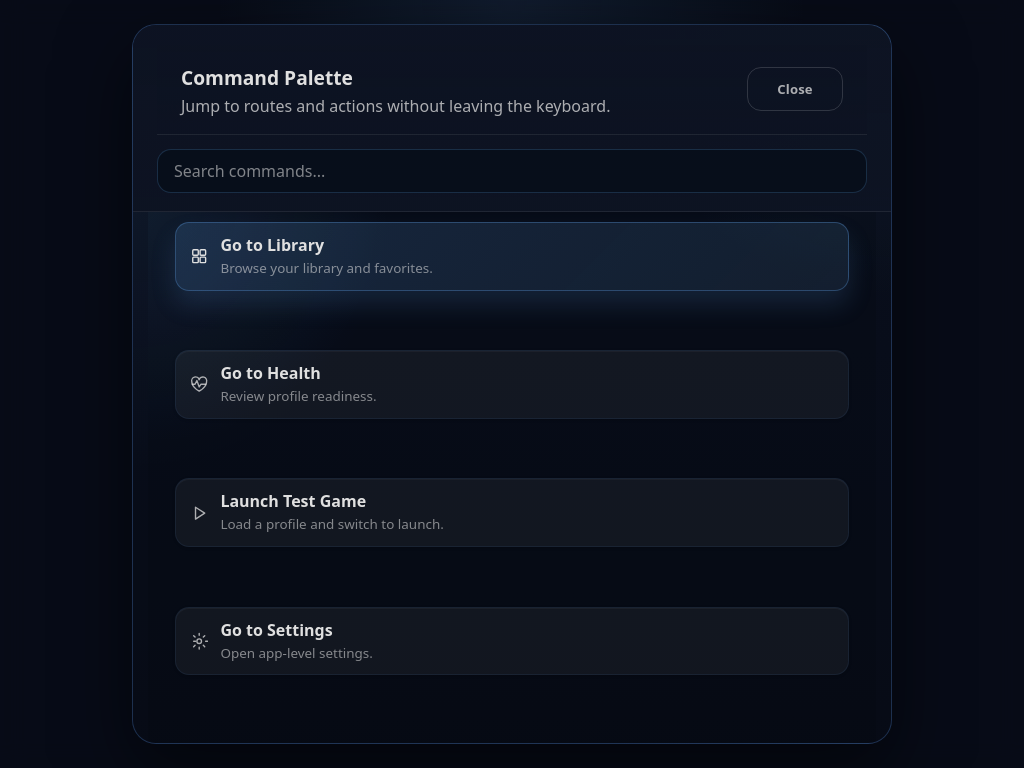
Test: CommandPalette › shows empty-state messaging when no command matches
In the search field labelled "Search commands": (512, 171) [157,149,867,193], type "totally-missing"
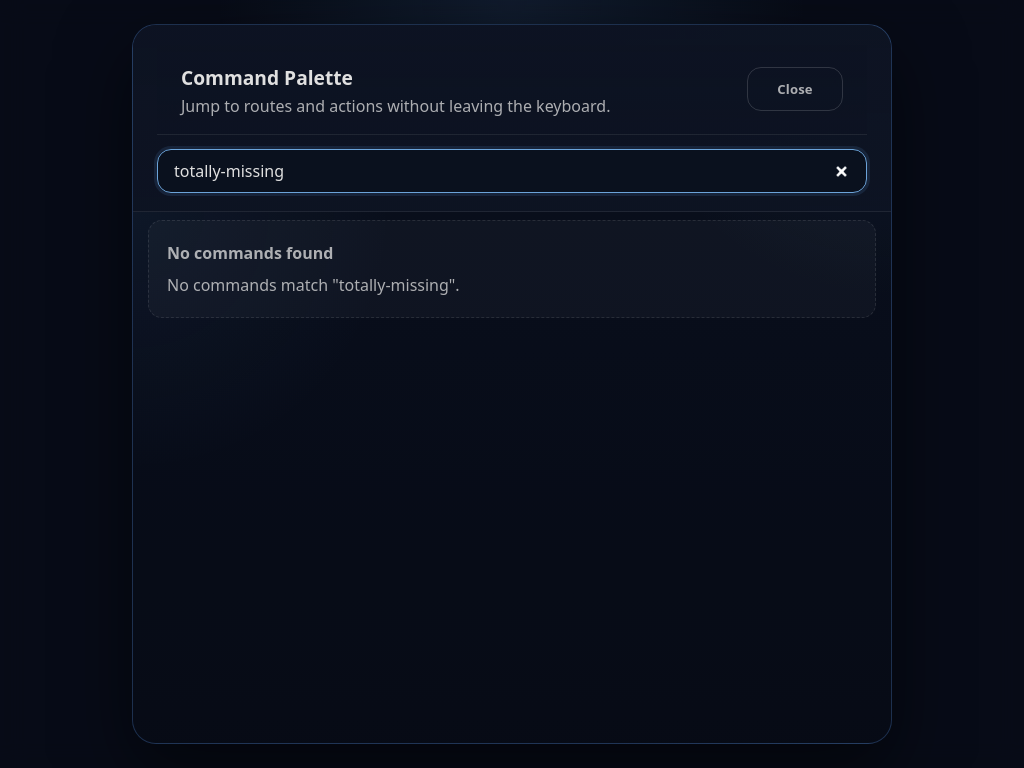
Expected: the message shows "No commands found", [167,242,333,264]
